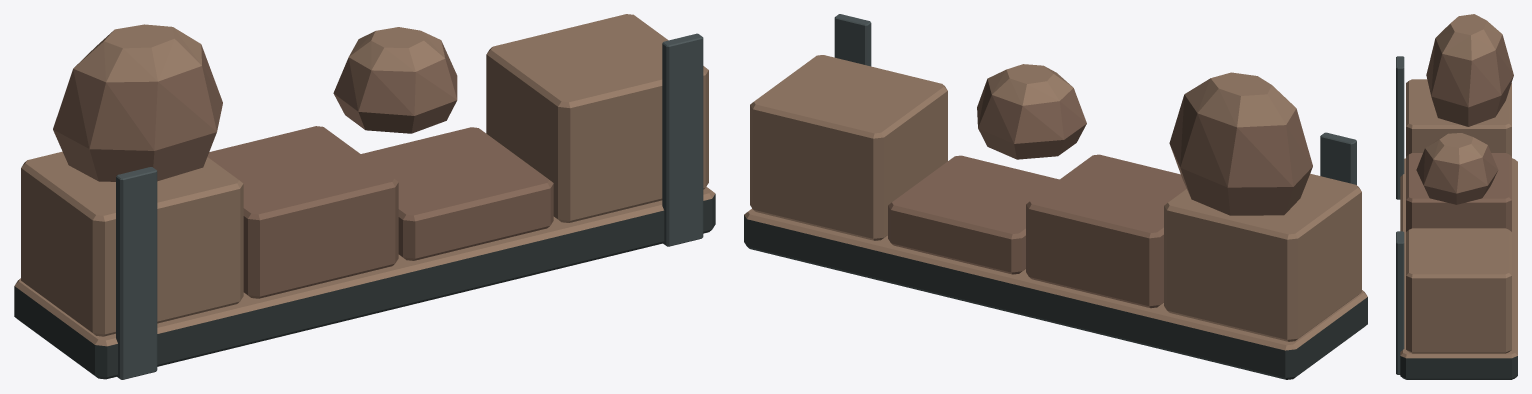
File: wall-broken.glb
The picture shows the model from 3 angles, left to right: view 1: azimuth 30°, elevation 25°; view 2: azimuth 150°, elevation 25°; view 3: azimuth 270°, elevation 25°; orthographic projection. The views are drawn at different scales.
Visible parts, largest first — view 1: wall-broken__body; view 2: wall-broken__body; view 3: wall-broken__body.
Part boxes in pixels (x1,y1,x2,y2): wall-broken__body: (14, 14, 715, 379); wall-broken__body: (744, 14, 1367, 379); wall-broken__body: (1396, 14, 1517, 379).
Bounding box in the file's own units: 2 × 0.88 × 0.5175.
